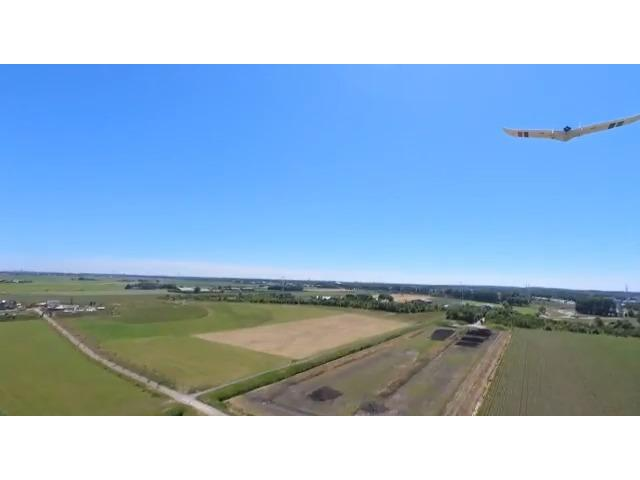Anti-Drone: (490, 108, 640, 160)
